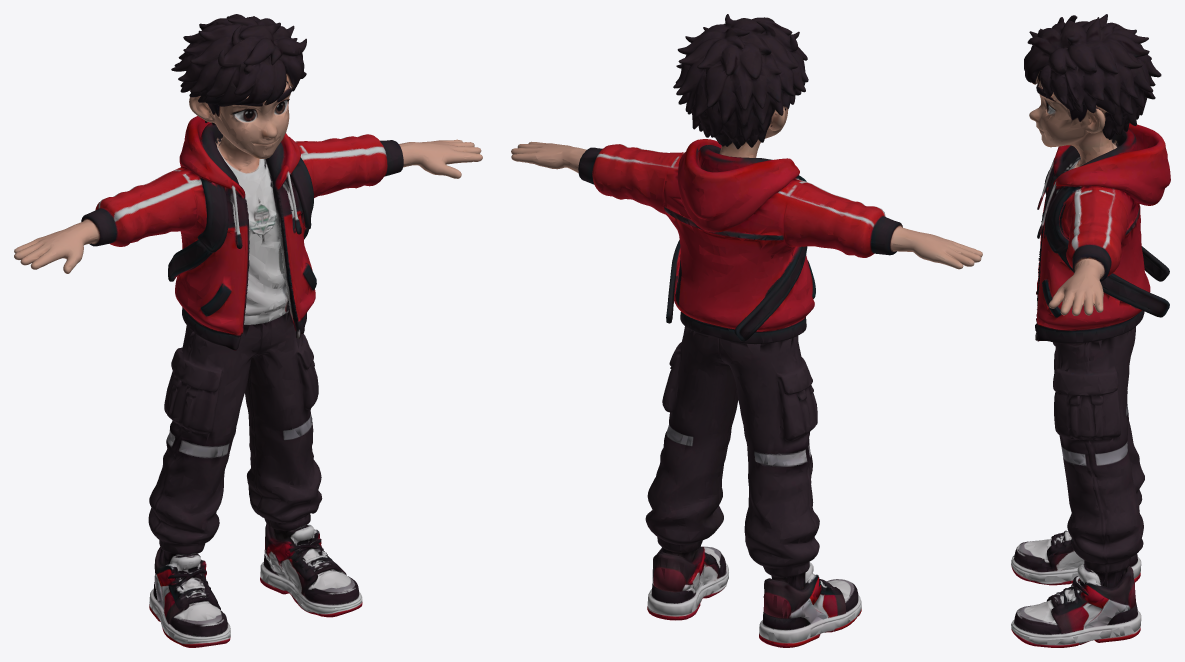
The model's file is tripo_convert_9082dee9-64bf-47c4-8fed-4140ce5aa56a.fbx.
3 renders of one model, left to right at view 1: azimuth 30°, elevation 25°; view 2: azimuth 150°, elevation 25°; view 3: azimuth 270°, elevation 25°, orthographic.
Parts seen in each view (by area): view 1: tripo_node_9082dee9; view 2: tripo_node_9082dee9; view 3: tripo_node_9082dee9.
Boxes of the visible parts, <box> form: tripo_node_9082dee9: <box>14,14,482,647</box>; tripo_node_9082dee9: <box>511,14,982,647</box>; tripo_node_9082dee9: <box>1011,14,1170,647</box>.
Bounding box in the file's own units: 79.99 × 24.26 × 97.9.
1 material, 1 textured.
